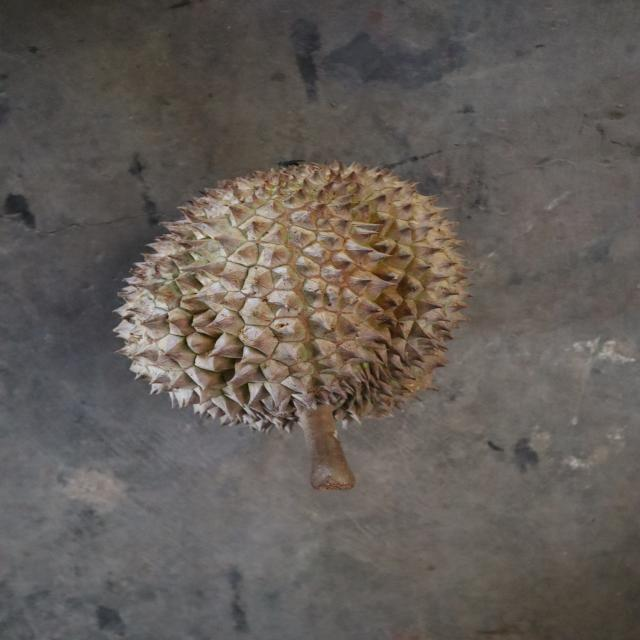mature: (117, 162, 475, 431)
